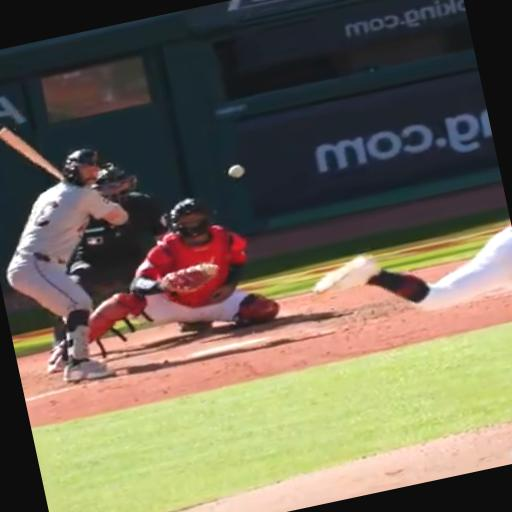bat: (0, 128, 62, 181)
